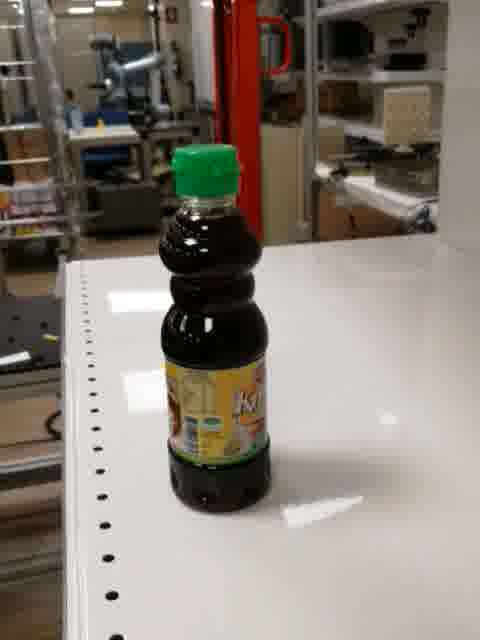cookingoil: (156, 141, 274, 518)
